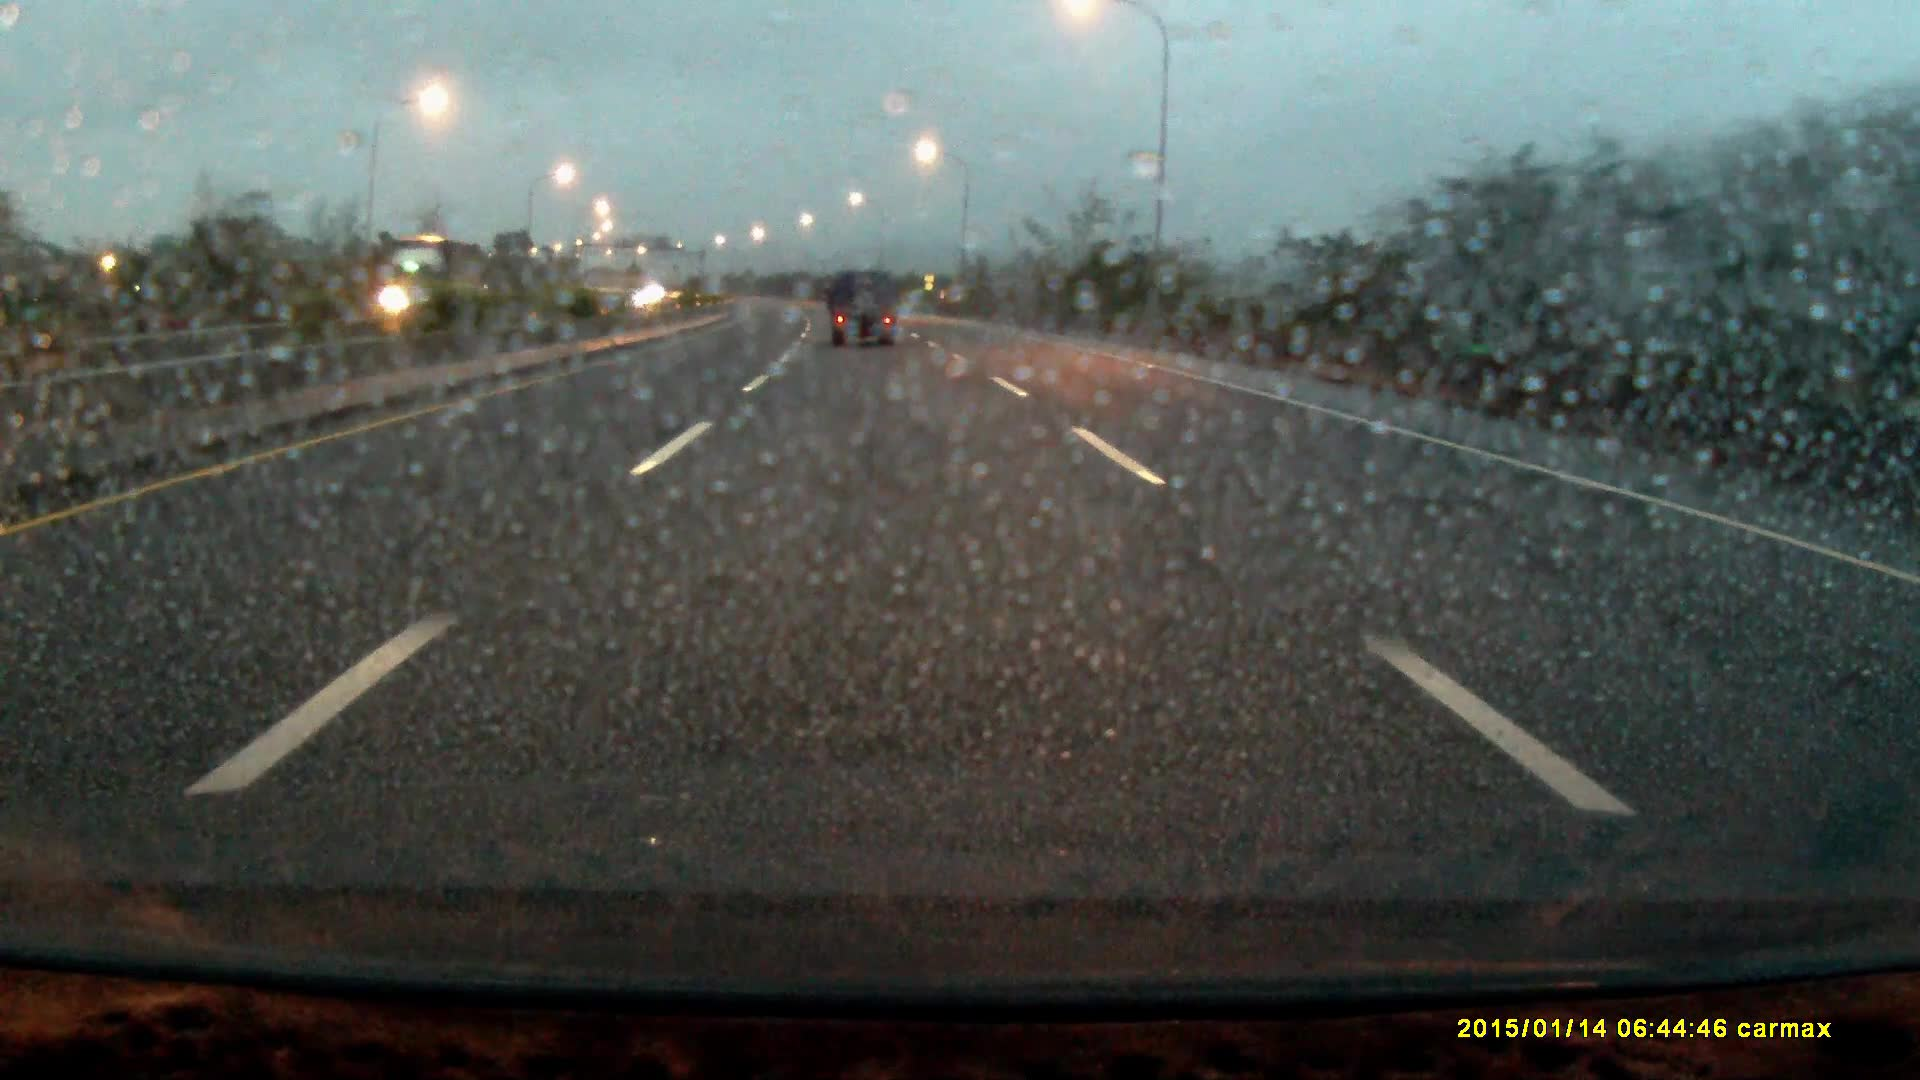vehicle: (373, 237, 502, 336), (829, 273, 901, 349)
